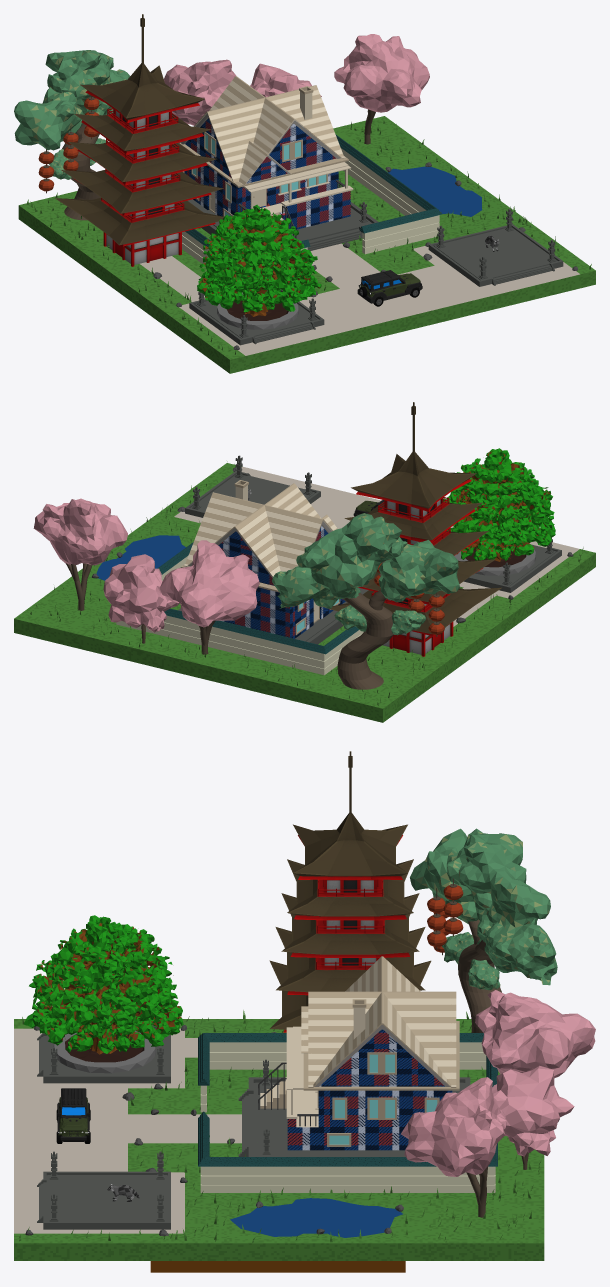
3 renders of one model, top to bottom at view 1: azimuth 30°, elevation 25°; view 2: azimuth 150°, elevation 25°; view 3: azimuth 270°, elevation 25°, orthographic. The views are drawn at different scales.
Parts seen in each view (by area): view 1: Cube.005, Cube.171, OBJRANDOM_CEIBA, VEHICLES_JEEP; view 2: Cube.005, Cube.171, OBJRANDOM_CEIBA; view 3: Cube.005, Cube.171, OBJRANDOM_CEIBA, UNDERGROUND_ART_PIECE_VAN_GOGH, VEHICLES_JEEP.
Part boxes in pixels (x1,y1,x2,y2): Cube.005: (14,14,595,373); Cube.171: (178,76,353,238); OBJRANDOM_CEIBA: (197,204,321,329); VEHICLES_JEEP: (357,270,422,306); Cube.005: (14,402,595,722); Cube.171: (180,480,345,638); OBJRANDOM_CEIBA: (443,448,555,575); Cube.005: (14,751,595,1260); Cube.171: (258,956,459,1150); OBJRANDOM_CEIBA: (24,915,183,1073); UNDERGROUND_ART_PIECE_VAN_GOGH: (150,1261,405,1272); VEHICLES_JEEP: (56,1088,90,1143).
Size of the model in its own units: 4528 by 2816 by 4389.
Materials: 37 (7 with a texture image).
